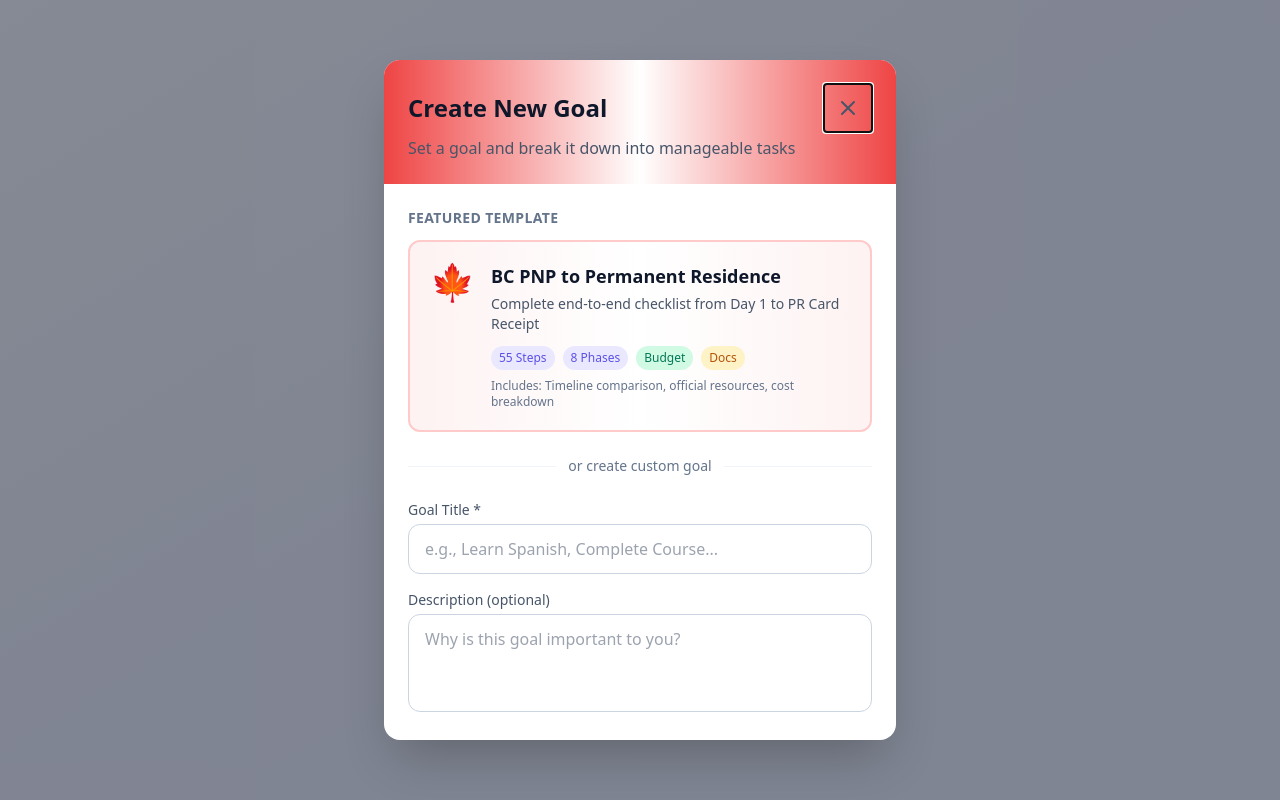
Test: CreateGoalModal › Form Interactions › should enable submit button when title is filled
The image size is (1280, 800).
Type "Learn React" into the field labelled "Goal Title *". click: (640, 549)
box: [408, 524, 872, 574]
(page scrolled)
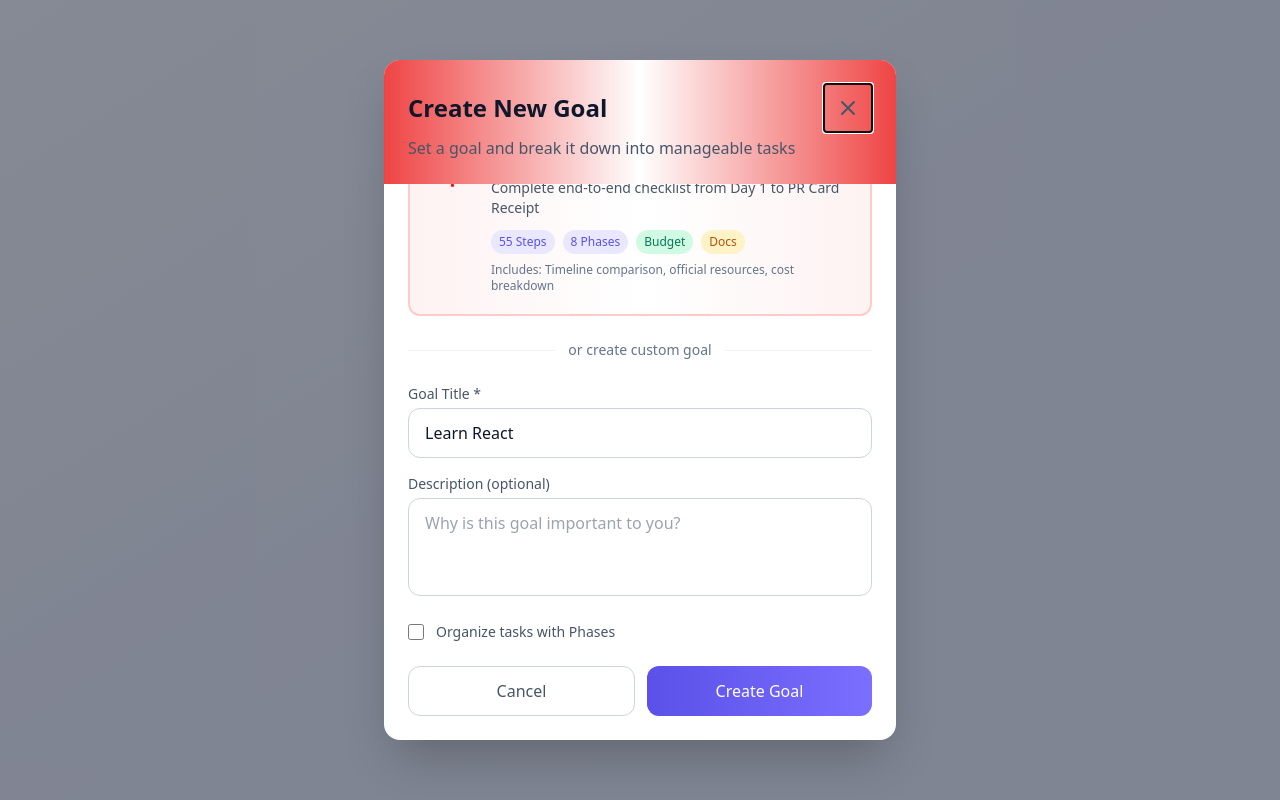
expect the button "Create Goal" is enabled: met, box [647, 666, 872, 716]
